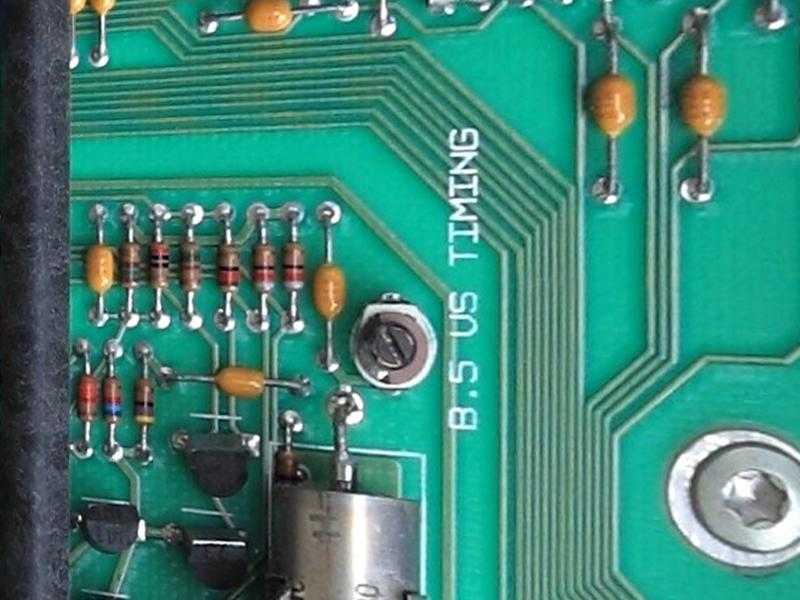Resistor: (278, 230, 310, 304), (212, 234, 245, 304), (127, 371, 164, 433), (269, 445, 301, 516), (248, 234, 278, 307), (176, 234, 206, 302), (117, 231, 144, 301), (97, 368, 127, 431), (146, 236, 171, 303), (74, 366, 99, 431)
